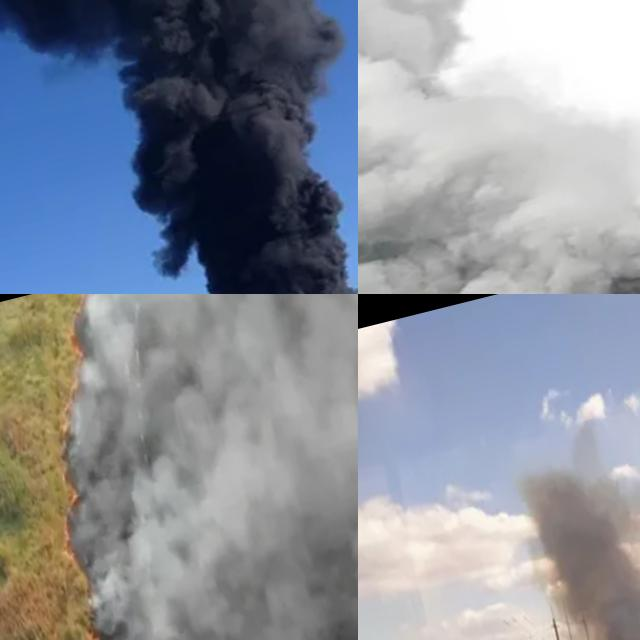smoke: (25, 294, 358, 640), (0, 0, 358, 294), (358, 0, 640, 294), (508, 403, 640, 640)
